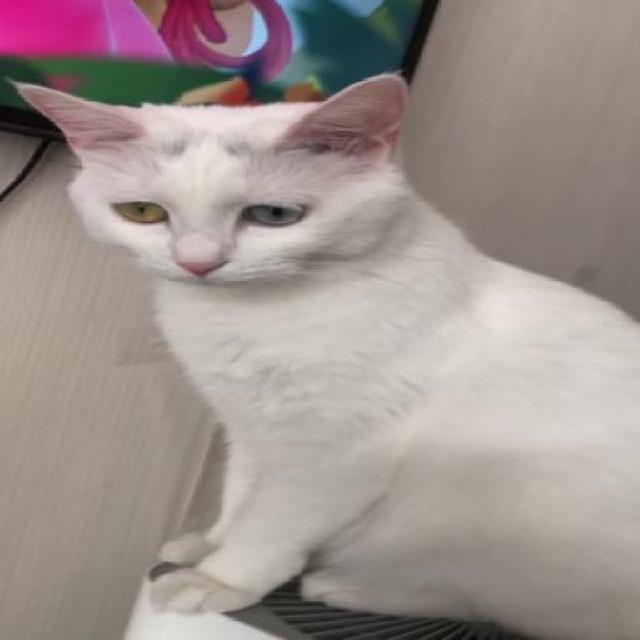cat-face: (22, 86, 406, 288)
